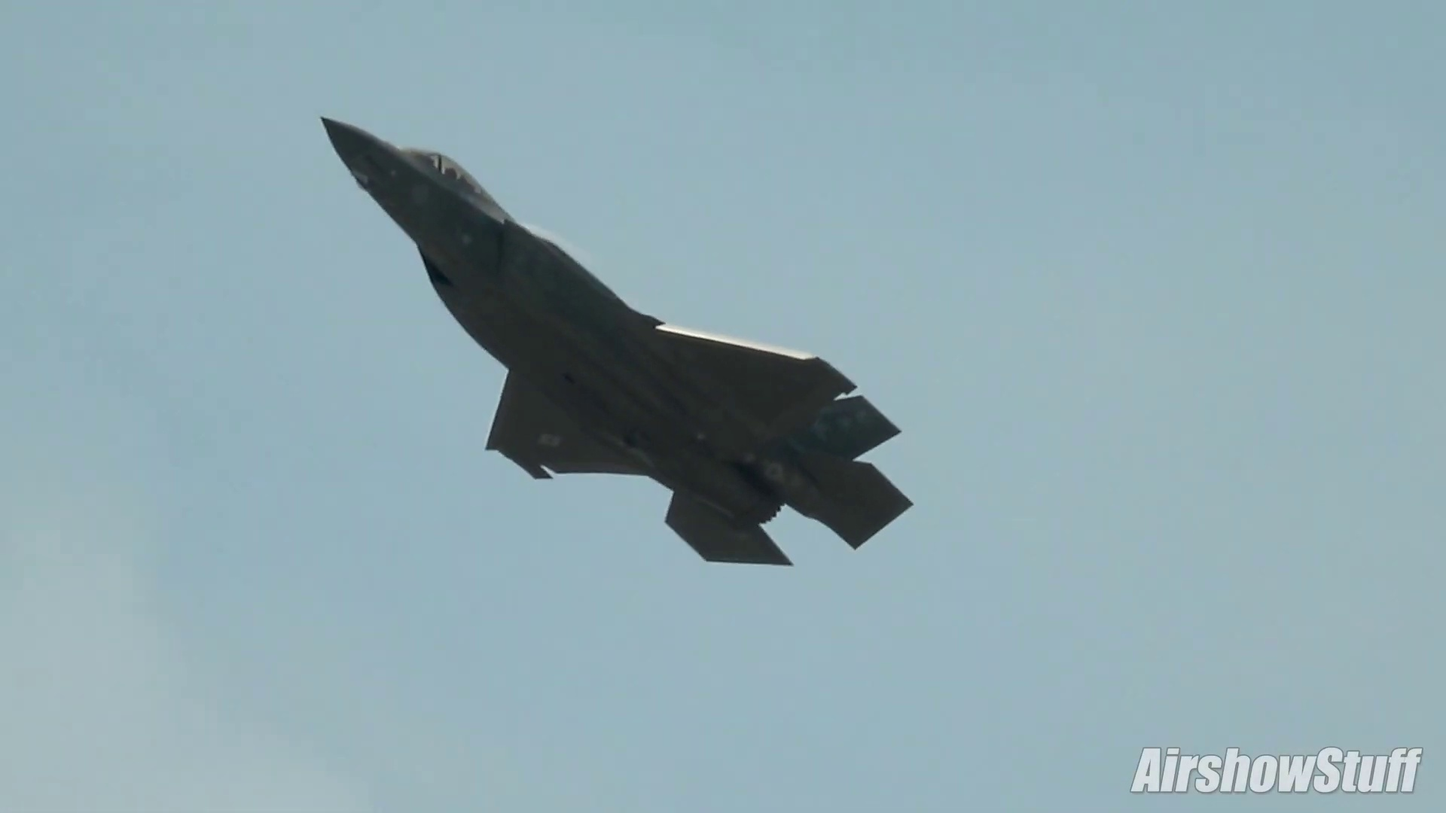F35: (311, 106, 924, 579)
